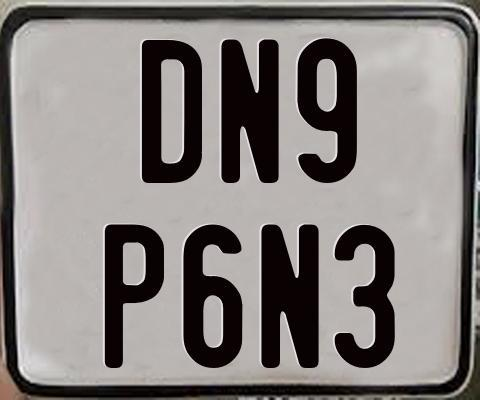3: (333, 224, 396, 371)
6: (183, 224, 243, 369)
9: (294, 35, 356, 183)
D: (140, 39, 202, 184)
N: (261, 223, 322, 368), (218, 37, 277, 186)
P: (102, 221, 166, 365)
